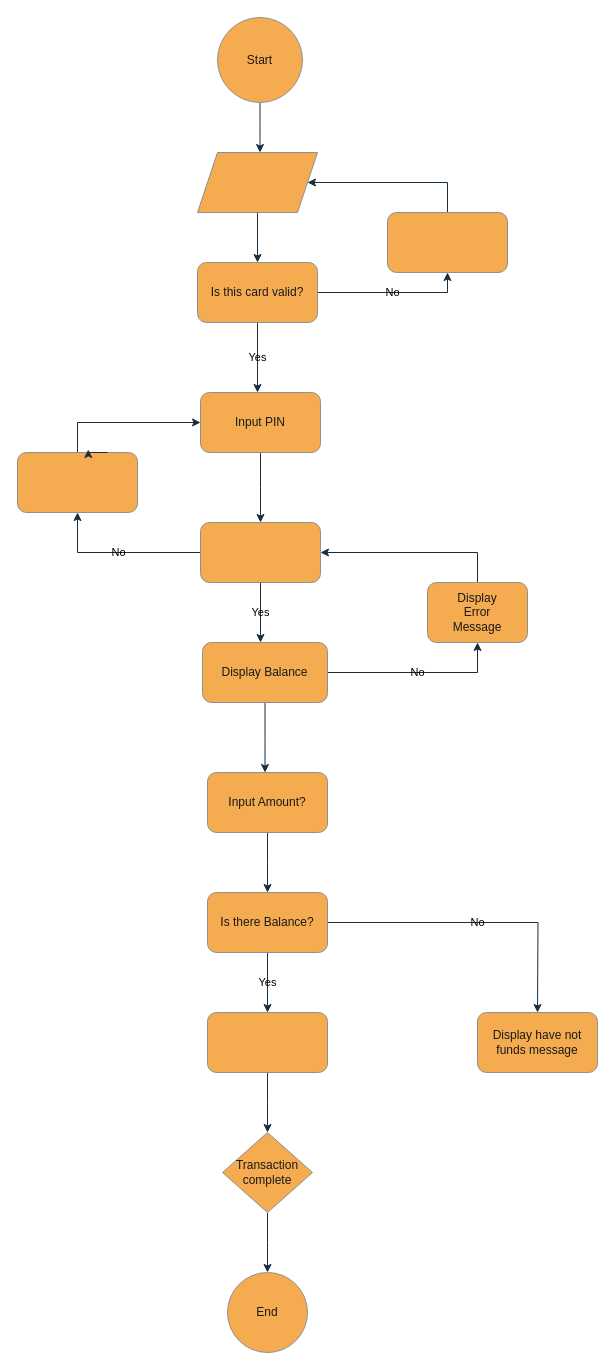
The diagram is 615 pixels wide and 1370 high, and some of its shapes have lost their labels. The shapes that lost their labels are listed below. From the top down, each one's centre as x and y in pixels, then its label:
point 257,182: Card input
point 447,242: Card Vallidation Error
point 77,482: PIN Vallidation Error
point 260,552: Is PIN valid?
point 267,1042: Dispense cash
